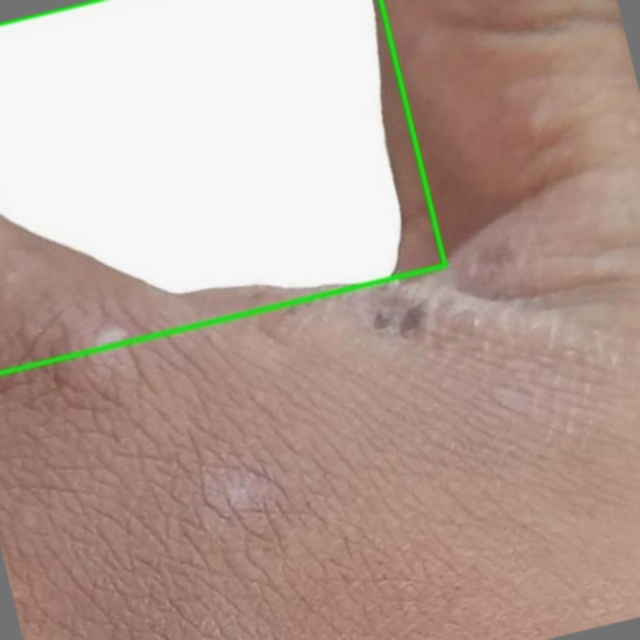Scabies: (0, 0, 445, 373)
